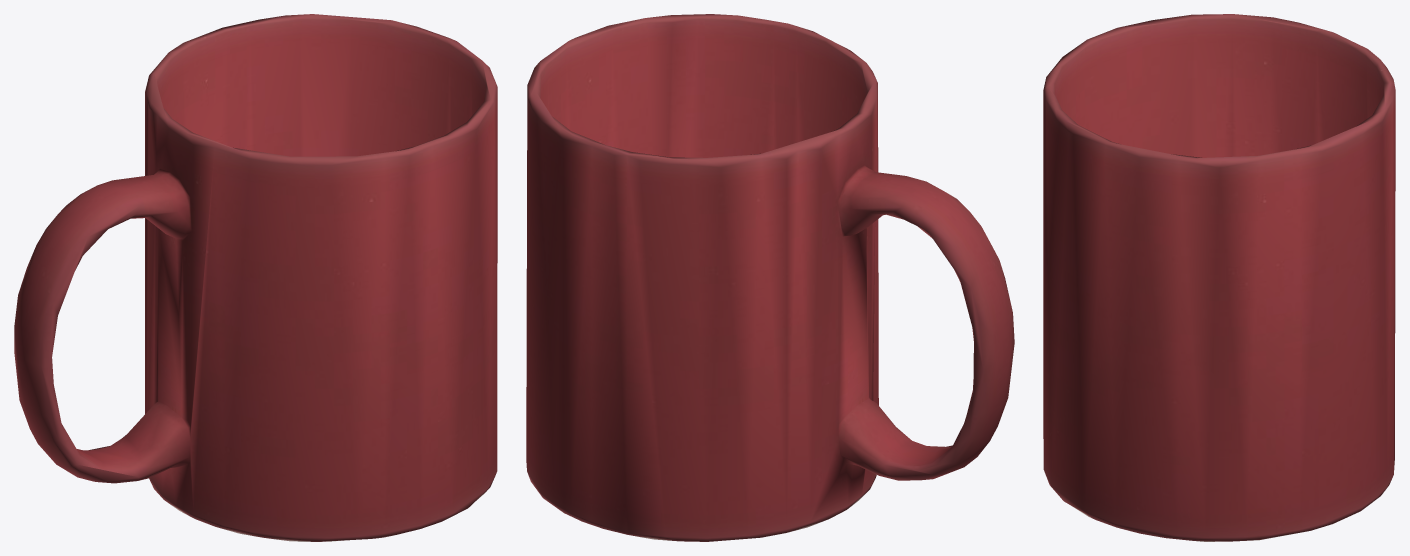
File: dishware_mug_coffee_a01.glb
3 views of the same model, side by side, from view 1: azimuth 30°, elevation 25°; view 2: azimuth 150°, elevation 25°; view 3: azimuth 270°, elevation 25° (orthographic).
Parts seen in each view (by area): view 1: dishware_mug_coffee_a01; view 2: dishware_mug_coffee_a01; view 3: dishware_mug_coffee_a01.
Part boxes in pixels (<box>): dishware_mug_coffee_a01: <box>14,14,497,541</box>; dishware_mug_coffee_a01: <box>526,14,1014,541</box>; dishware_mug_coffee_a01: <box>1043,14,1395,541</box>.
Bounding box in the file's own units: 0.1207 × 0.0972 × 0.0809.
1 material, 1 textured.
